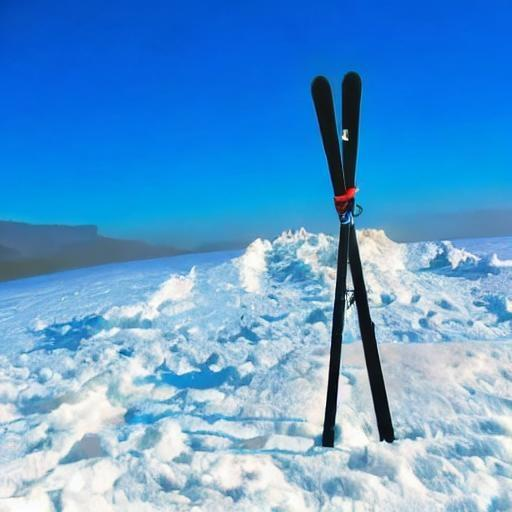Skis: (305, 66, 403, 445), (314, 64, 368, 452)
